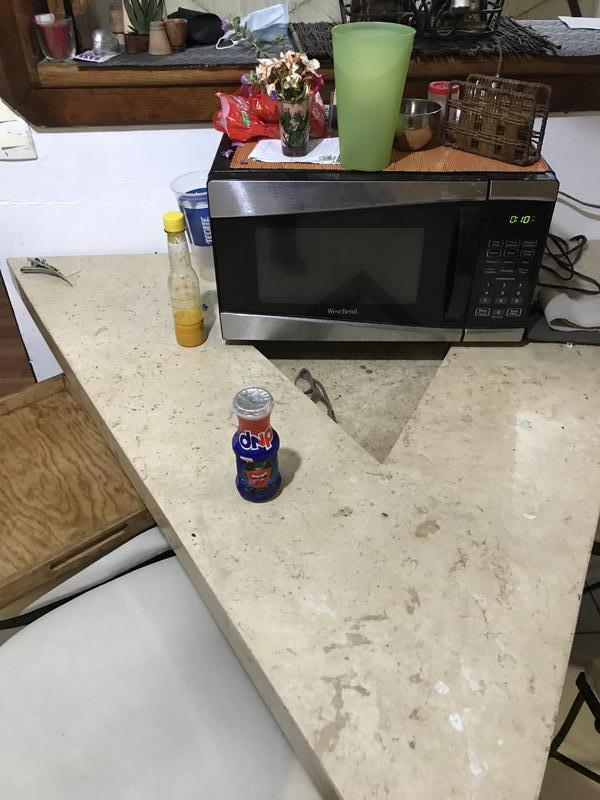danup: (231, 389, 282, 503)
